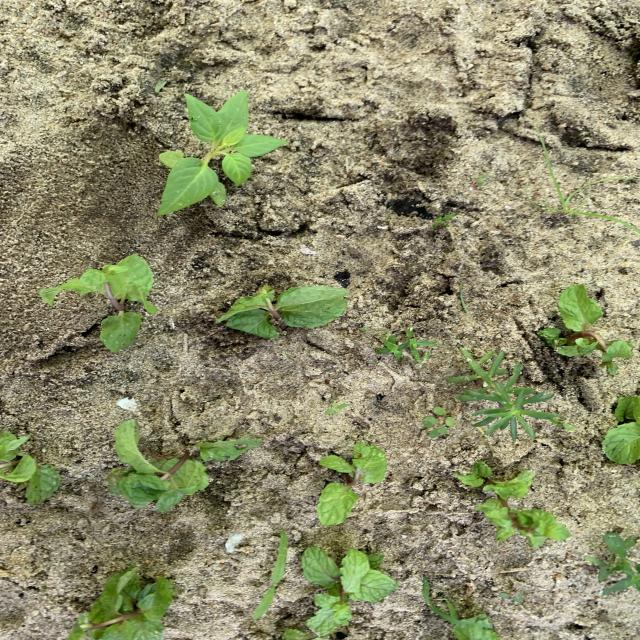crop: (108, 420, 245, 511), (40, 255, 156, 351), (455, 462, 568, 547), (303, 548, 397, 635), (540, 285, 635, 370), (67, 567, 175, 639), (219, 286, 347, 338), (318, 442, 386, 524), (1, 431, 62, 503), (603, 396, 639, 463)
weed: (157, 91, 286, 215), (446, 349, 556, 441), (539, 136, 640, 235), (422, 578, 499, 639), (587, 534, 639, 595), (252, 531, 287, 619), (406, 330, 437, 362), (423, 406, 455, 436), (377, 334, 407, 359), (432, 214, 456, 228), (502, 591, 525, 602), (325, 402, 347, 413), (472, 174, 488, 184), (155, 80, 166, 91)
